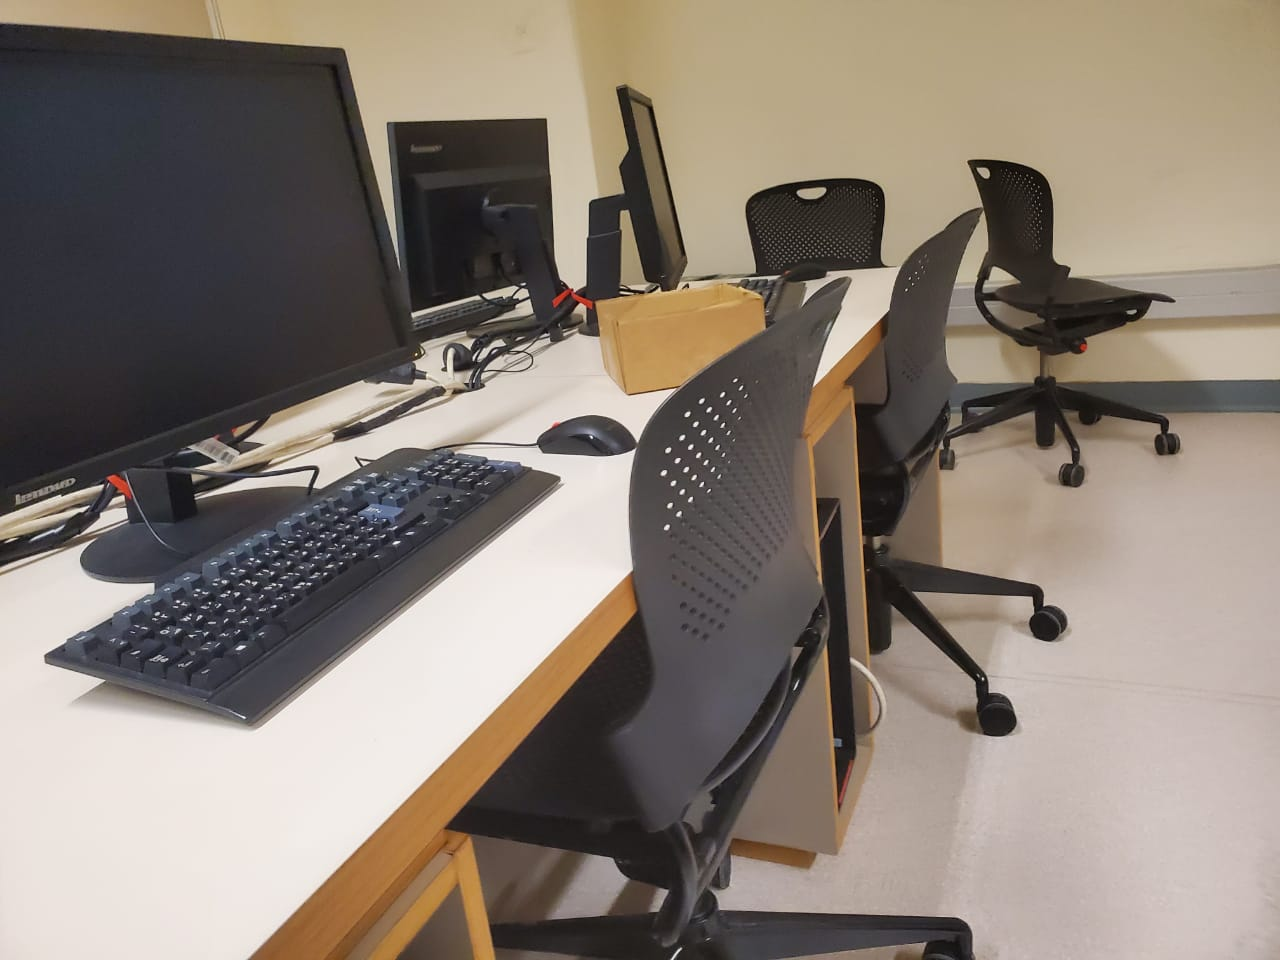CBox: (594, 289, 780, 396)
